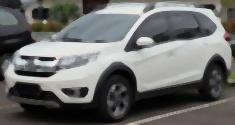Car hood: (16, 41, 123, 58)
Fender - -F-L-: (93, 45, 140, 94)
Fender - -R-L-: (201, 28, 228, 78)
Front bumper: (3, 61, 98, 110)
Headlight - -L-: (54, 50, 102, 71)
Passenger-s door - -F-L-: (131, 3, 179, 97)
Passenger-s door - -R-L-: (176, 4, 209, 95)
Rear light - -L-: (222, 31, 231, 44)
Side bumper - -L-: (133, 73, 203, 106)
Side mirror - -L-: (129, 36, 155, 48)
